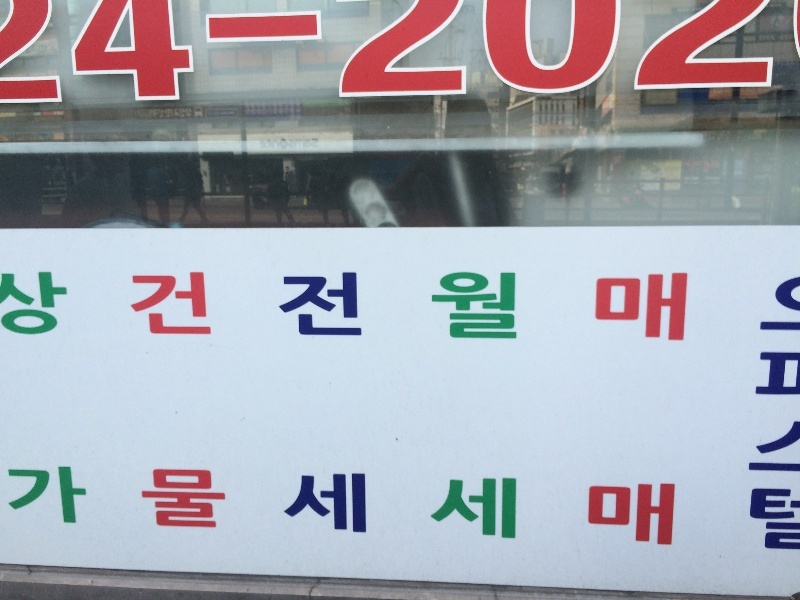text: (769, 278, 784, 558), (785, 278, 800, 558), (759, 278, 768, 558), (17, 5, 32, 109), (33, 5, 48, 109), (49, 5, 64, 109), (65, 5, 80, 109), (81, 5, 96, 109), (97, 5, 112, 109), (113, 5, 128, 109), (129, 5, 144, 109), (145, 5, 160, 109), (161, 5, 176, 109), (177, 5, 192, 109), (193, 5, 208, 109), (209, 5, 224, 109), (225, 5, 240, 109), (241, 5, 256, 109), (257, 5, 272, 109), (273, 5, 288, 109), (289, 5, 304, 109), (305, 5, 320, 109), (321, 5, 336, 109), (337, 5, 352, 109), (353, 5, 368, 109), (369, 5, 384, 109), (385, 5, 400, 109), (401, 5, 416, 109), (417, 5, 432, 109), (433, 5, 448, 109), (449, 5, 464, 109), (465, 5, 480, 109), (481, 5, 496, 109), (497, 5, 512, 109), (513, 5, 528, 109), (529, 5, 544, 109), (545, 5, 560, 109), (561, 5, 576, 109), (577, 5, 592, 109), (593, 5, 608, 109), (609, 5, 624, 109), (625, 5, 640, 109), (641, 5, 656, 109), (657, 5, 672, 109), (673, 5, 688, 109), (689, 5, 704, 109), (705, 5, 720, 109), (721, 5, 736, 109), (737, 5, 752, 109), (753, 5, 768, 109), (769, 5, 784, 109), (785, 5, 799, 109), (17, 465, 32, 549), (33, 465, 48, 549), (49, 465, 64, 549), (65, 465, 80, 549), (81, 465, 96, 549), (97, 465, 112, 549), (113, 465, 128, 549), (129, 465, 144, 549), (145, 465, 160, 549), (161, 465, 176, 549), (177, 465, 192, 549), (193, 465, 208, 549), (209, 465, 224, 549), (225, 465, 240, 549), (241, 465, 256, 549), (257, 465, 272, 549), (273, 465, 288, 549), (289, 465, 304, 549), (305, 465, 320, 549), (321, 465, 336, 549), (337, 465, 352, 549), (353, 465, 368, 549), (369, 465, 384, 549), (385, 465, 400, 549), (401, 465, 416, 549), (417, 465, 432, 549), (433, 465, 448, 549), (449, 465, 464, 549), (465, 465, 480, 549), (481, 465, 496, 549), (497, 465, 512, 549), (513, 465, 528, 549), (529, 465, 544, 549), (545, 465, 560, 549), (561, 465, 576, 549), (577, 465, 592, 549), (593, 465, 608, 549), (609, 465, 624, 549), (625, 465, 640, 549), (641, 465, 656, 549), (657, 465, 672, 549), (17, 267, 32, 346), (33, 267, 48, 346), (49, 267, 64, 346), (65, 267, 80, 346), (81, 267, 96, 346), (97, 267, 112, 346), (113, 267, 128, 346), (129, 267, 144, 346), (145, 267, 160, 346), (161, 267, 176, 346), (177, 267, 192, 346), (193, 267, 208, 346), (209, 267, 224, 346), (225, 267, 240, 346), (241, 267, 256, 346), (257, 267, 272, 346), (273, 267, 288, 346), (289, 267, 304, 346), (305, 267, 320, 346), (321, 267, 336, 346), (337, 267, 352, 346), (353, 267, 368, 346), (369, 267, 384, 346), (385, 267, 400, 346), (401, 267, 416, 346), (417, 267, 432, 346), (433, 267, 448, 346), (449, 267, 464, 346), (465, 267, 480, 346), (481, 267, 496, 346), (497, 267, 512, 346), (513, 267, 528, 346), (529, 267, 544, 346), (545, 267, 560, 346), (561, 267, 576, 346), (577, 267, 592, 346), (593, 267, 608, 346), (609, 267, 624, 346), (625, 267, 640, 346), (641, 267, 656, 346), (657, 267, 672, 346), (673, 267, 688, 346), (3, 267, 16, 346), (8, 5, 16, 109), (7, 465, 16, 549), (673, 465, 680, 549), (689, 267, 690, 346)
